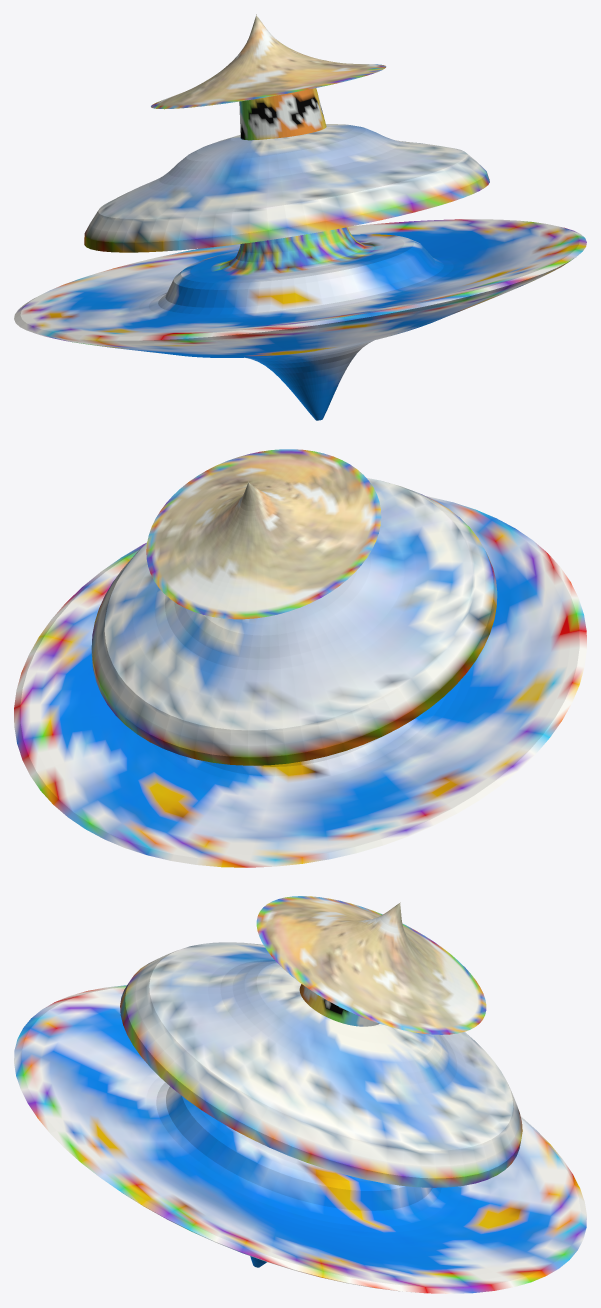
File: april24pagodatilted2.glb
The picture shows the model from 3 angles, top to bottom: view 1: azimuth 30°, elevation 25°; view 2: azimuth 150°, elevation 25°; view 3: azimuth 270°, elevation 25°; orthographic projection. The views are drawn at different scales.
Parts seen in each view (by area): view 1: Lathe 4, Lathe 3, Lathe, Lathe.001; view 2: Lathe 4, Lathe 3, Lathe; view 3: Lathe 4, Lathe 3, Lathe, Lathe.001.
Part boxes in pixels (left/top/right/bottom): Lathe 4: left=14, top=219, right=586, bottom=420; Lathe 3: left=84, top=124, right=489, bottom=252; Lathe: left=151, top=14, right=386, bottom=109; Lathe.001: left=239, top=88, right=326, bottom=140; Lathe 4: left=14, top=496, right=586, bottom=867; Lathe 3: left=91, top=478, right=497, bottom=765; Lathe: left=146, top=449, right=381, bottom=619; Lathe 4: left=14, top=985, right=586, bottom=1293; Lathe 3: left=120, top=942, right=522, bottom=1187; Lathe: left=256, top=896, right=486, bottom=1034; Lathe.001: left=299, top=984, right=379, bottom=1026.
Bounding box in the file's own units: 3.74 × 2.53 × 3.57.
